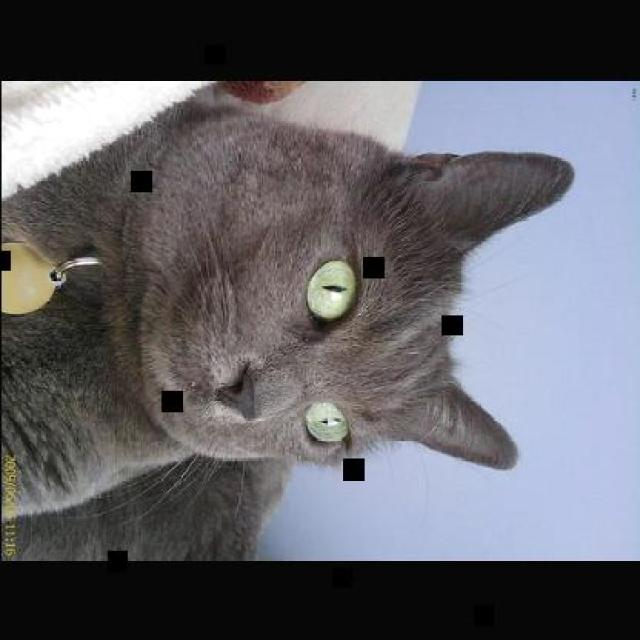unauthorized: (0, 77, 574, 558)
